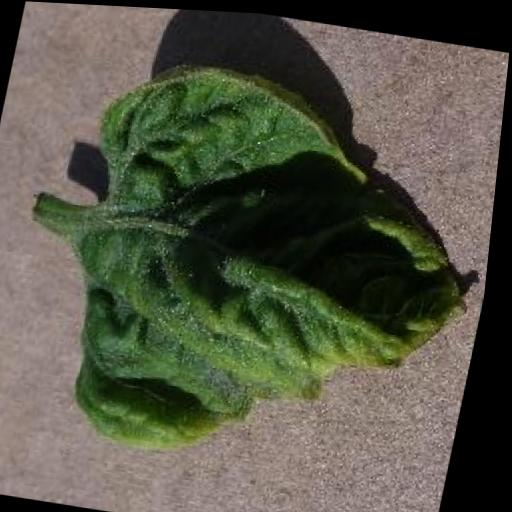Yellow Leaf Curl Virus: (46, 47, 508, 488)
